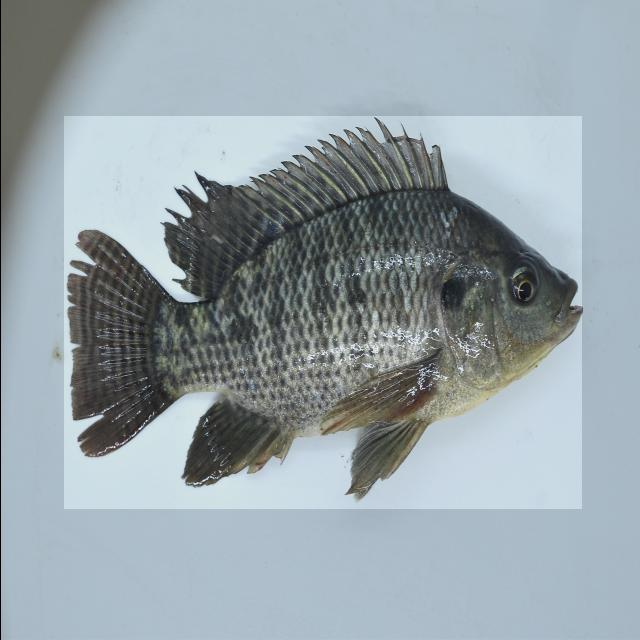Healthy Fish: (63, 116, 581, 509)
